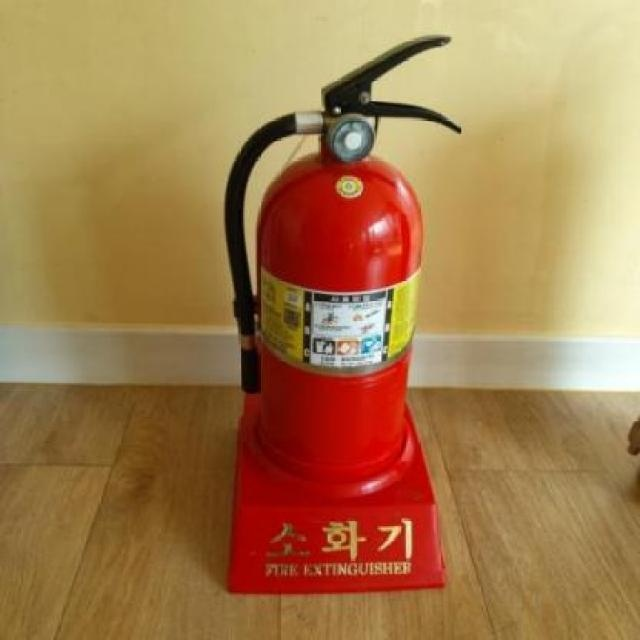fire extinguisher: (225, 34, 463, 483)
